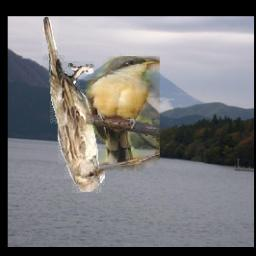Cuckoo: (87, 56, 161, 171)
Sparrow: (43, 16, 106, 193)
